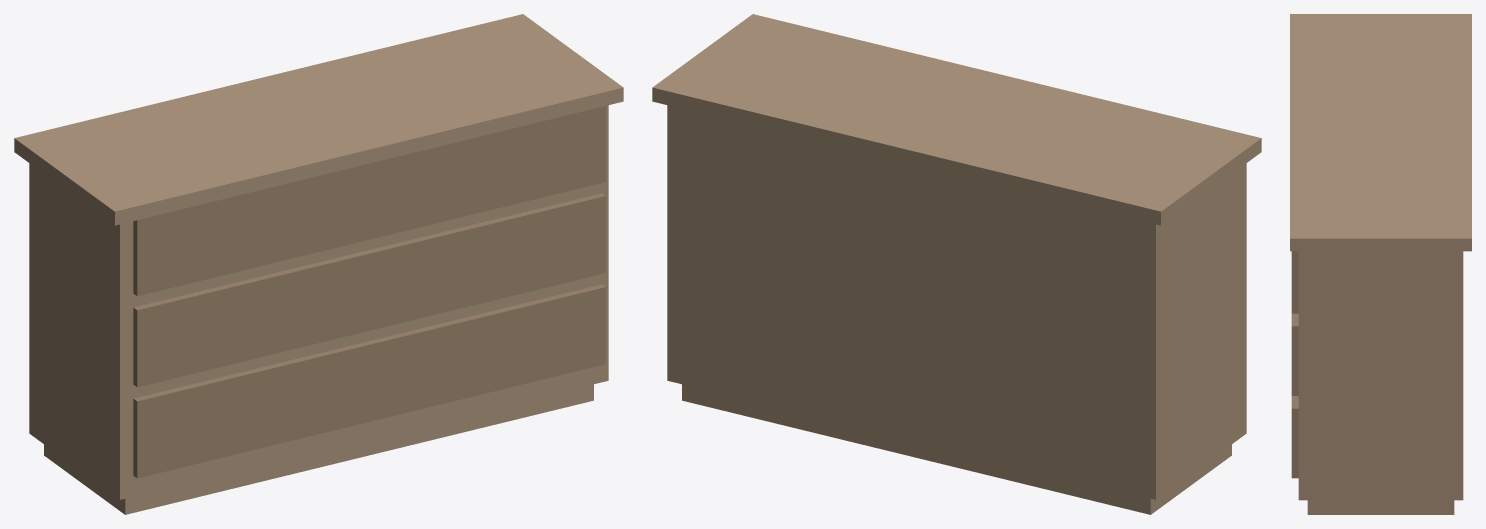
Rendered from dresser.gltf.
3 views of the same model, side by side, from view 1: azimuth 30°, elevation 25°; view 2: azimuth 150°, elevation 25°; view 3: azimuth 270°, elevation 25° (orthographic). The views are drawn at different scales.
Visible parts, largest first — view 1: Top, Carcass, DrawerStripB, DrawerStripA, DrawerStripC, Plinth; view 2: Carcass, Top, Plinth; view 3: Top, Carcass, Plinth, DrawerStripA, DrawerStripB, DrawerStripC.
Part boxes in pixels (x1=…): Top: x1=14, y1=14, x2=623, y2=225; Carcass: x1=29, y1=105, x2=608, y2=499; DrawerStripB: x1=133, y1=193, x2=605, y2=387; DrawerStripA: x1=133, y1=284, x2=605, y2=478; DrawerStripC: x1=133, y1=106, x2=605, y2=296; Plinth: x1=44, y1=384, x2=593, y2=514; Carcass: x1=667, y1=105, x2=1246, y2=499; Top: x1=652, y1=14, x2=1261, y2=225; Plinth: x1=682, y1=384, x2=1231, y2=514; Top: x1=1290, y1=14, x2=1471, y2=251; Carcass: x1=1298, y1=251, x2=1463, y2=500; Plinth: x1=1307, y1=500, x2=1454, y2=514; DrawerStripA: x1=1291, y1=396, x2=1298, y2=478; DrawerStripB: x1=1291, y1=313, x2=1298, y2=395; DrawerStripC: x1=1291, y1=251, x2=1298, y2=313.
Bounding box in the file's own units: 0.095 × 0.0562 × 0.0325.
